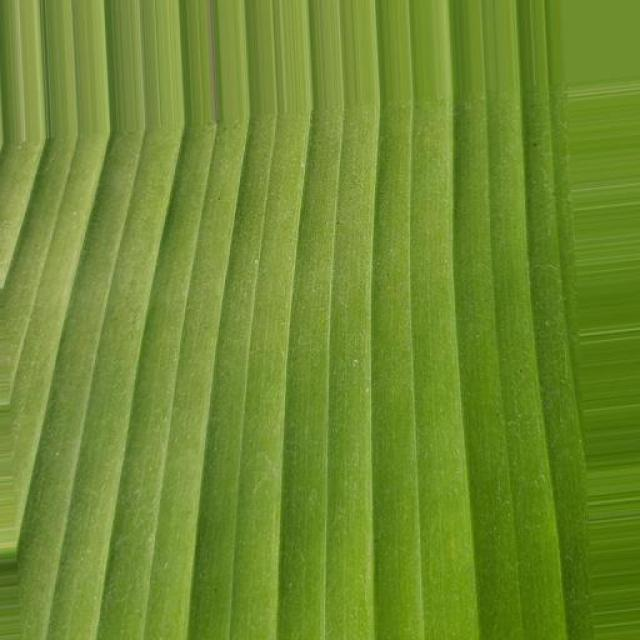Black_leaf_spot: (0, 99, 580, 640)
